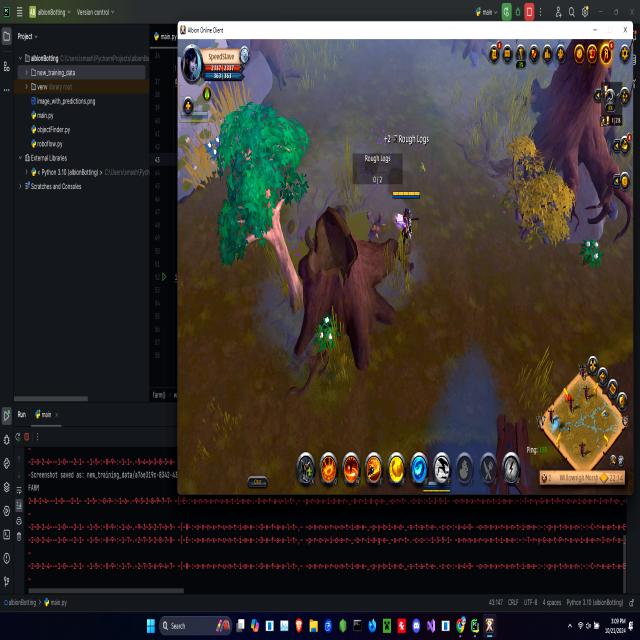hide: (314, 312, 343, 357), (576, 233, 606, 272), (201, 132, 230, 169)
red: (178, 100, 215, 124)
wisp caged: (217, 101, 311, 321)
